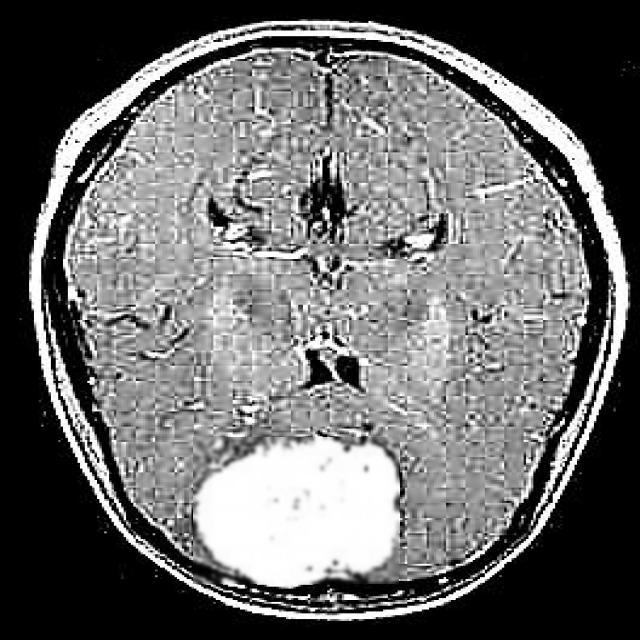Tumor: (194, 438, 399, 584)
